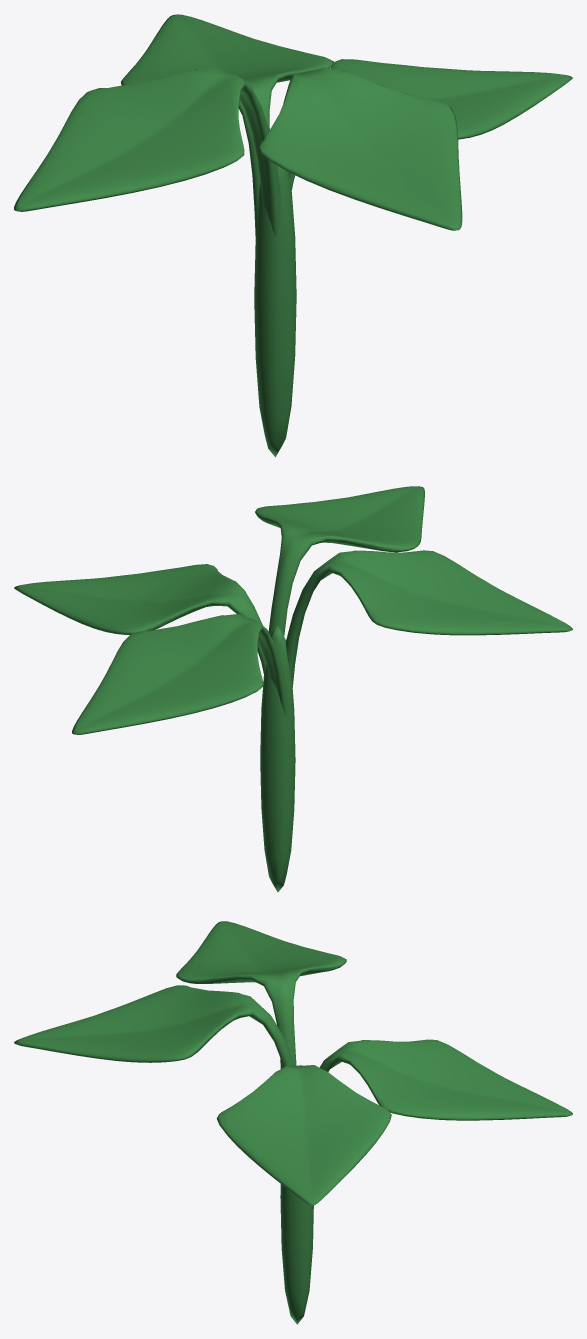
Rendered from mintplant.fbx.
The picture shows the model from 3 angles, top to bottom: view 1: azimuth 30°, elevation 25°; view 2: azimuth 150°, elevation 25°; view 3: azimuth 270°, elevation 25°; orthographic projection. The views are drawn at different scales.
Visible parts, largest first — view 1: mint2, mint, stem, mint5, mint4; view 2: mint5, mint2, mint4, mint, stem; view 3: mint4, mint5, mint, mint2, stem.
Part boxes in pixels (x1,y1,x2,y2): mint2: [14, 68, 280, 236]; mint: [258, 67, 462, 230]; stem: [254, 165, 296, 457]; mint5: [121, 14, 333, 237]; mint4: [289, 59, 572, 190]; mint5: [72, 614, 288, 734]; mint2: [286, 550, 572, 687]; mint4: [14, 564, 266, 676]; mint: [255, 486, 424, 636]; stem: [260, 626, 295, 892]; mint4: [216, 1065, 391, 1205]; mint5: [319, 1039, 572, 1120]; mint: [14, 985, 293, 1067]; mint2: [176, 921, 346, 1068]; stem: [280, 1184, 313, 1324].
Size of the model in its own units: 216 by 137 by 214.
